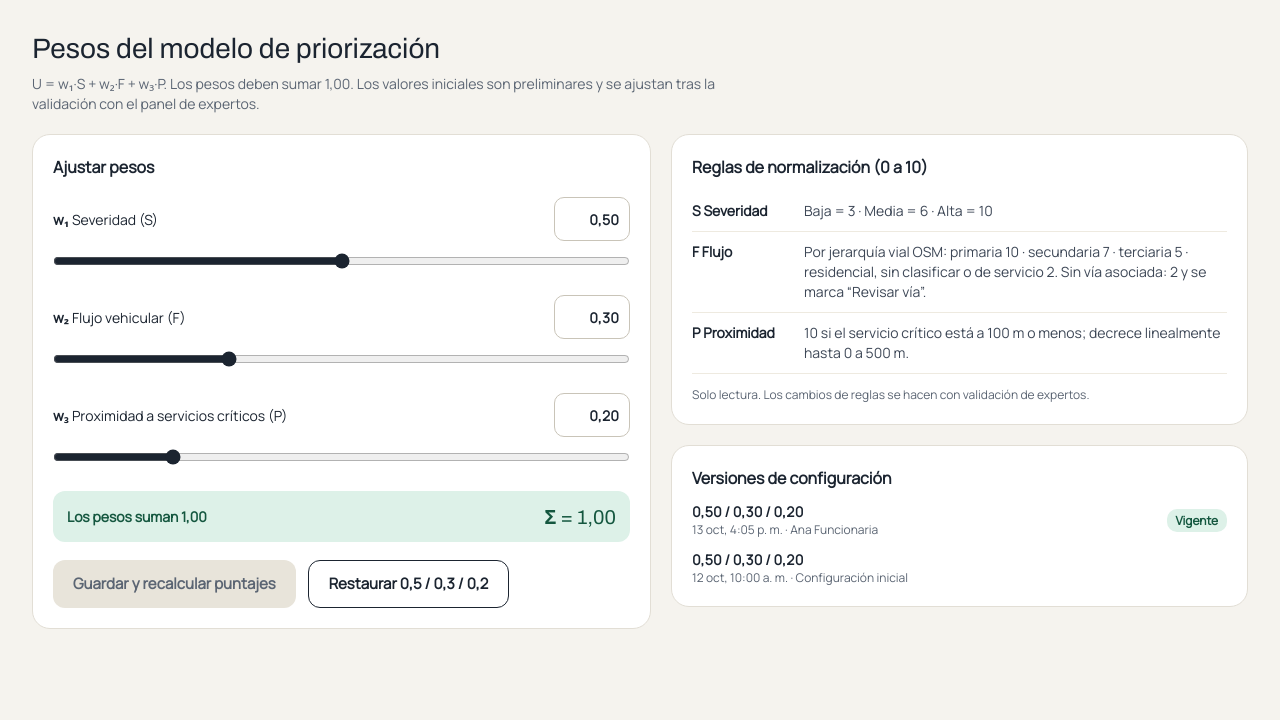
pantalla Pesos del modelo › conflict_409_offers_reload_current_version
Replace the text in the field labelled "w₁ Severidad (S)" with "0,6" at (592, 219), box [554,197,630,241]
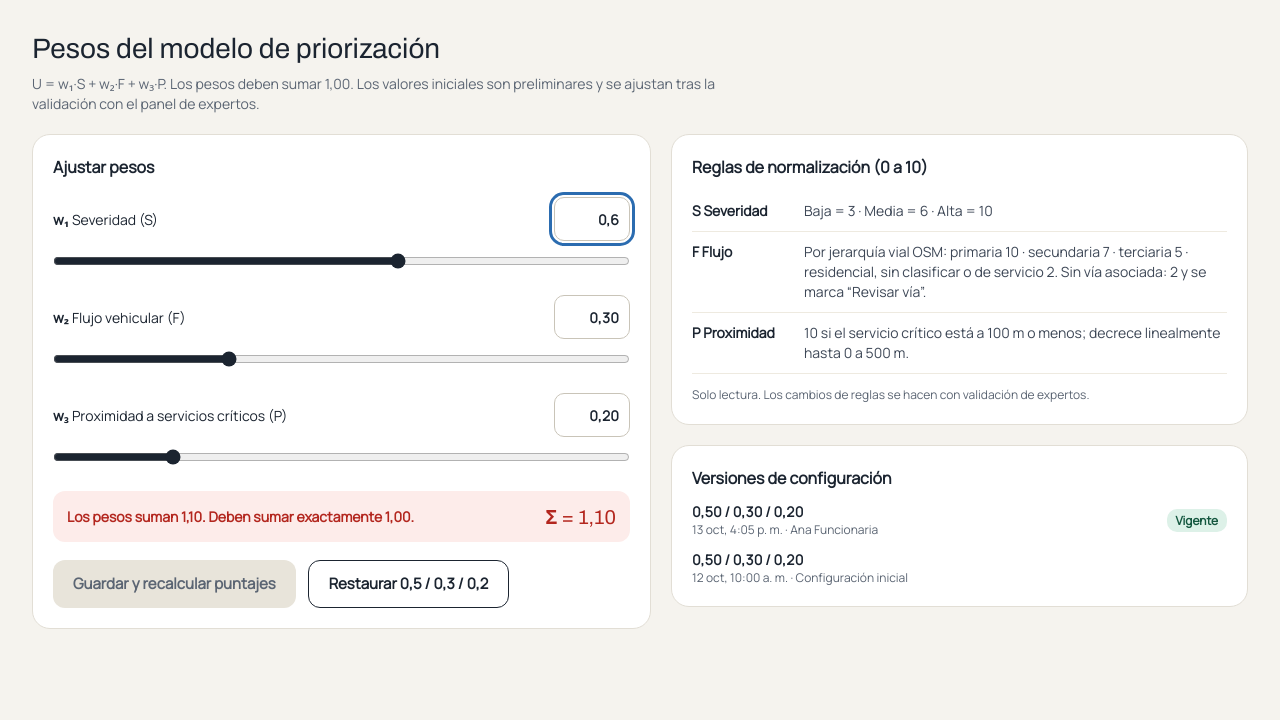
Replace the text in the field labelled "w₃ Proximidad a servicios críticos (P)" with "0,1" at (592, 415), box [554,393,630,437]
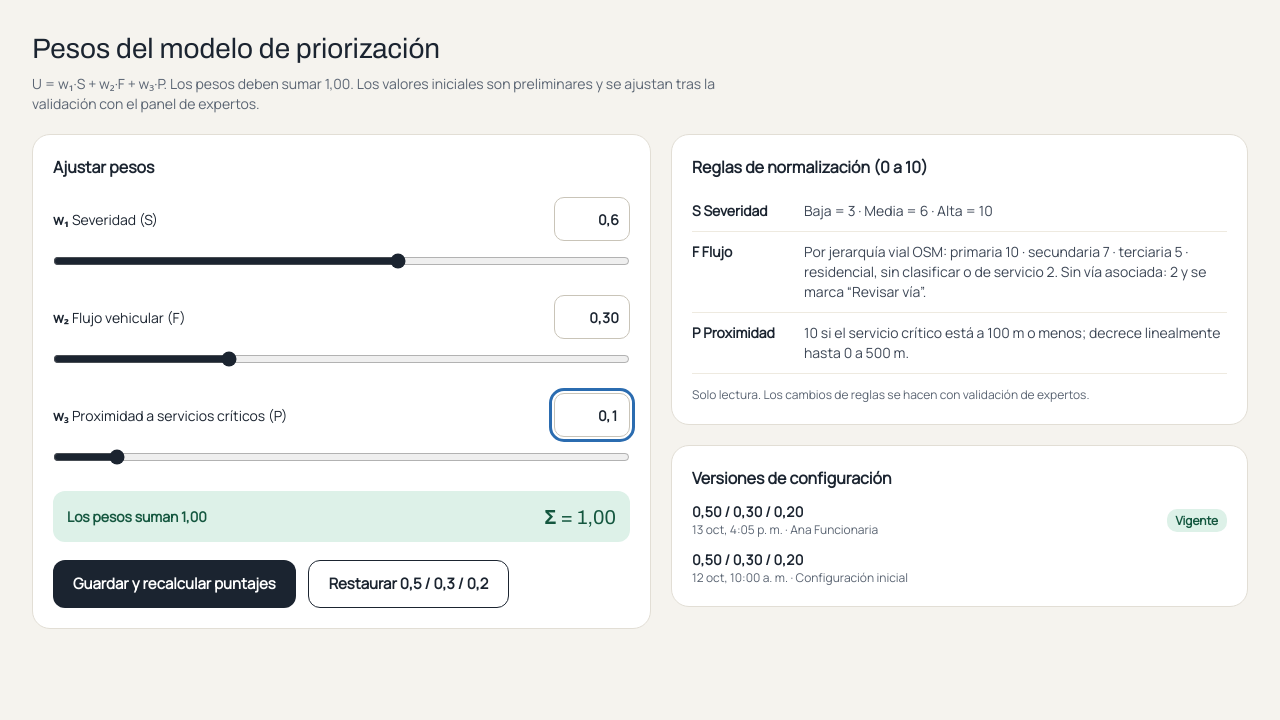
Click the button "Guardar y recalcular puntajes".
click(174, 584)  # box [53,560,296,608]
(page scrolled)
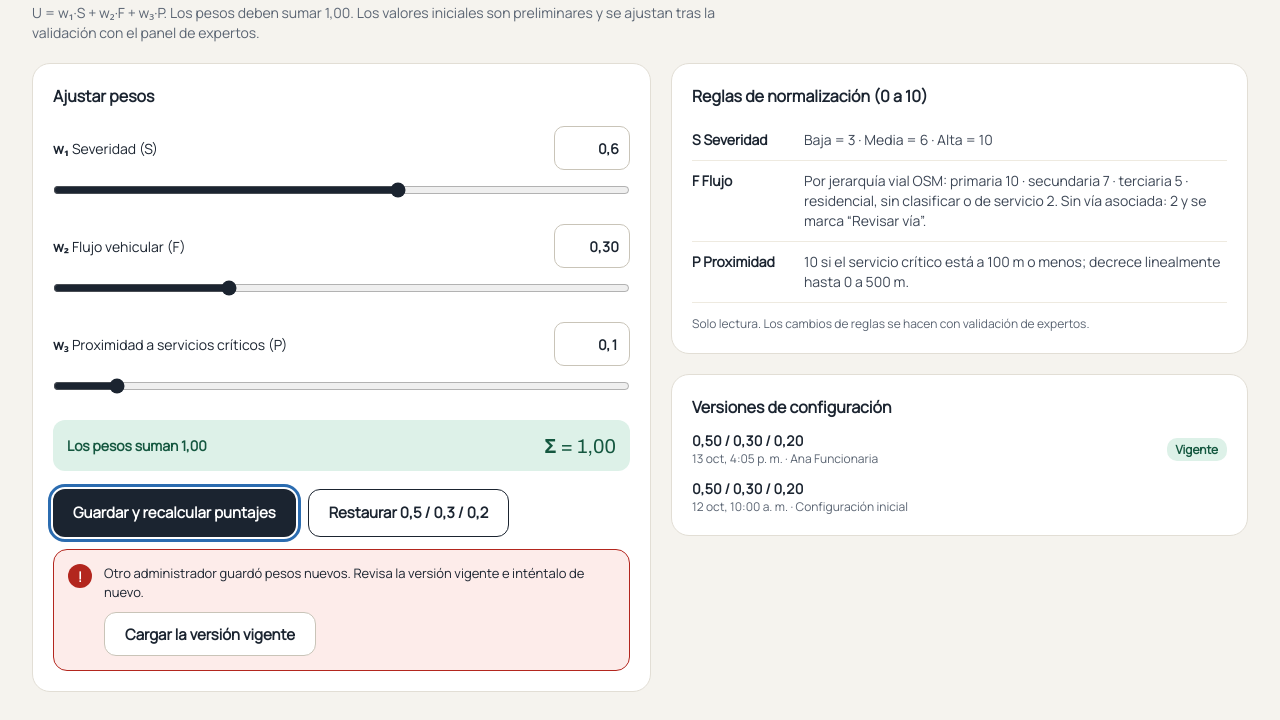
Check: the message shows "Otro administrador guardó pesos nuevos.", box [104,564,584,601]
Click the button "Cargar la versión vigente".
click(210, 634)  # box [104,612,316,656]
(page scrolled)
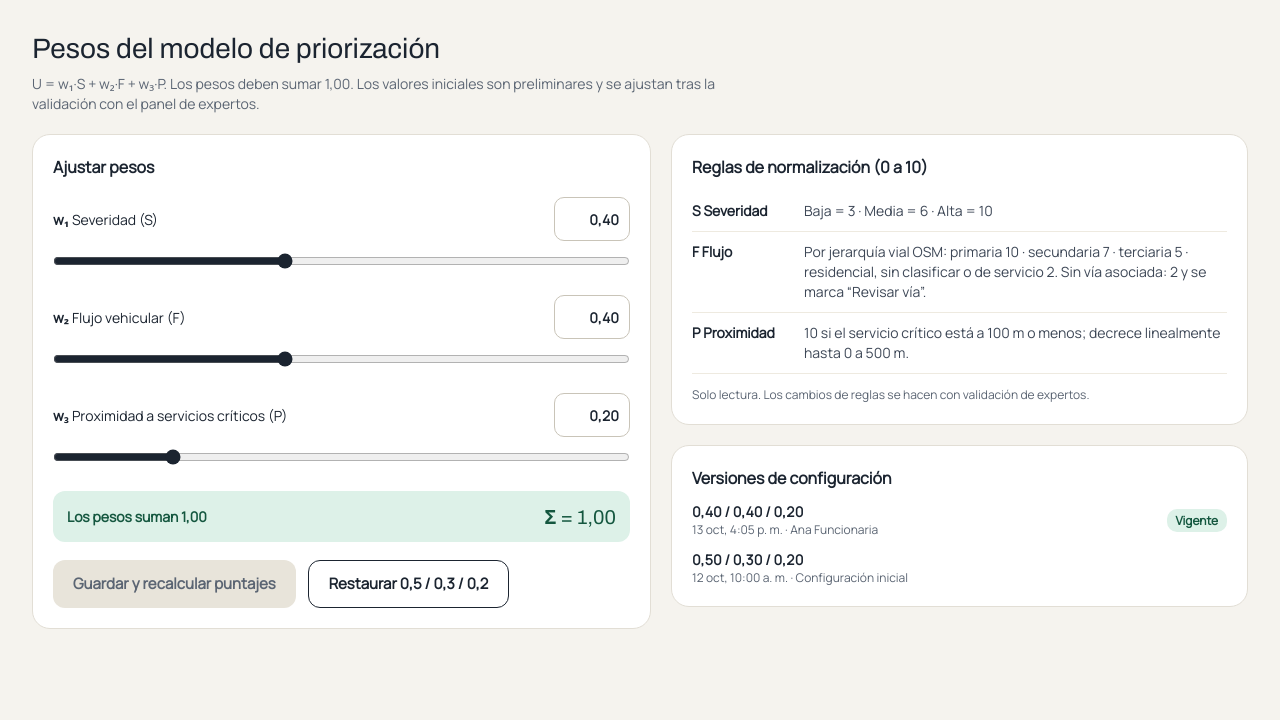
Check: the field labelled "w₁ Severidad (S)" holds "0,40", box [554,197,630,241]
Check: the field labelled "w₂ Flujo vehicular (F)" holds "0,40", box [554,295,630,339]
Check: the message "! Otro administrador guardó pesos nuevos. Revisa la versión vigente e inténtalo" is gone
